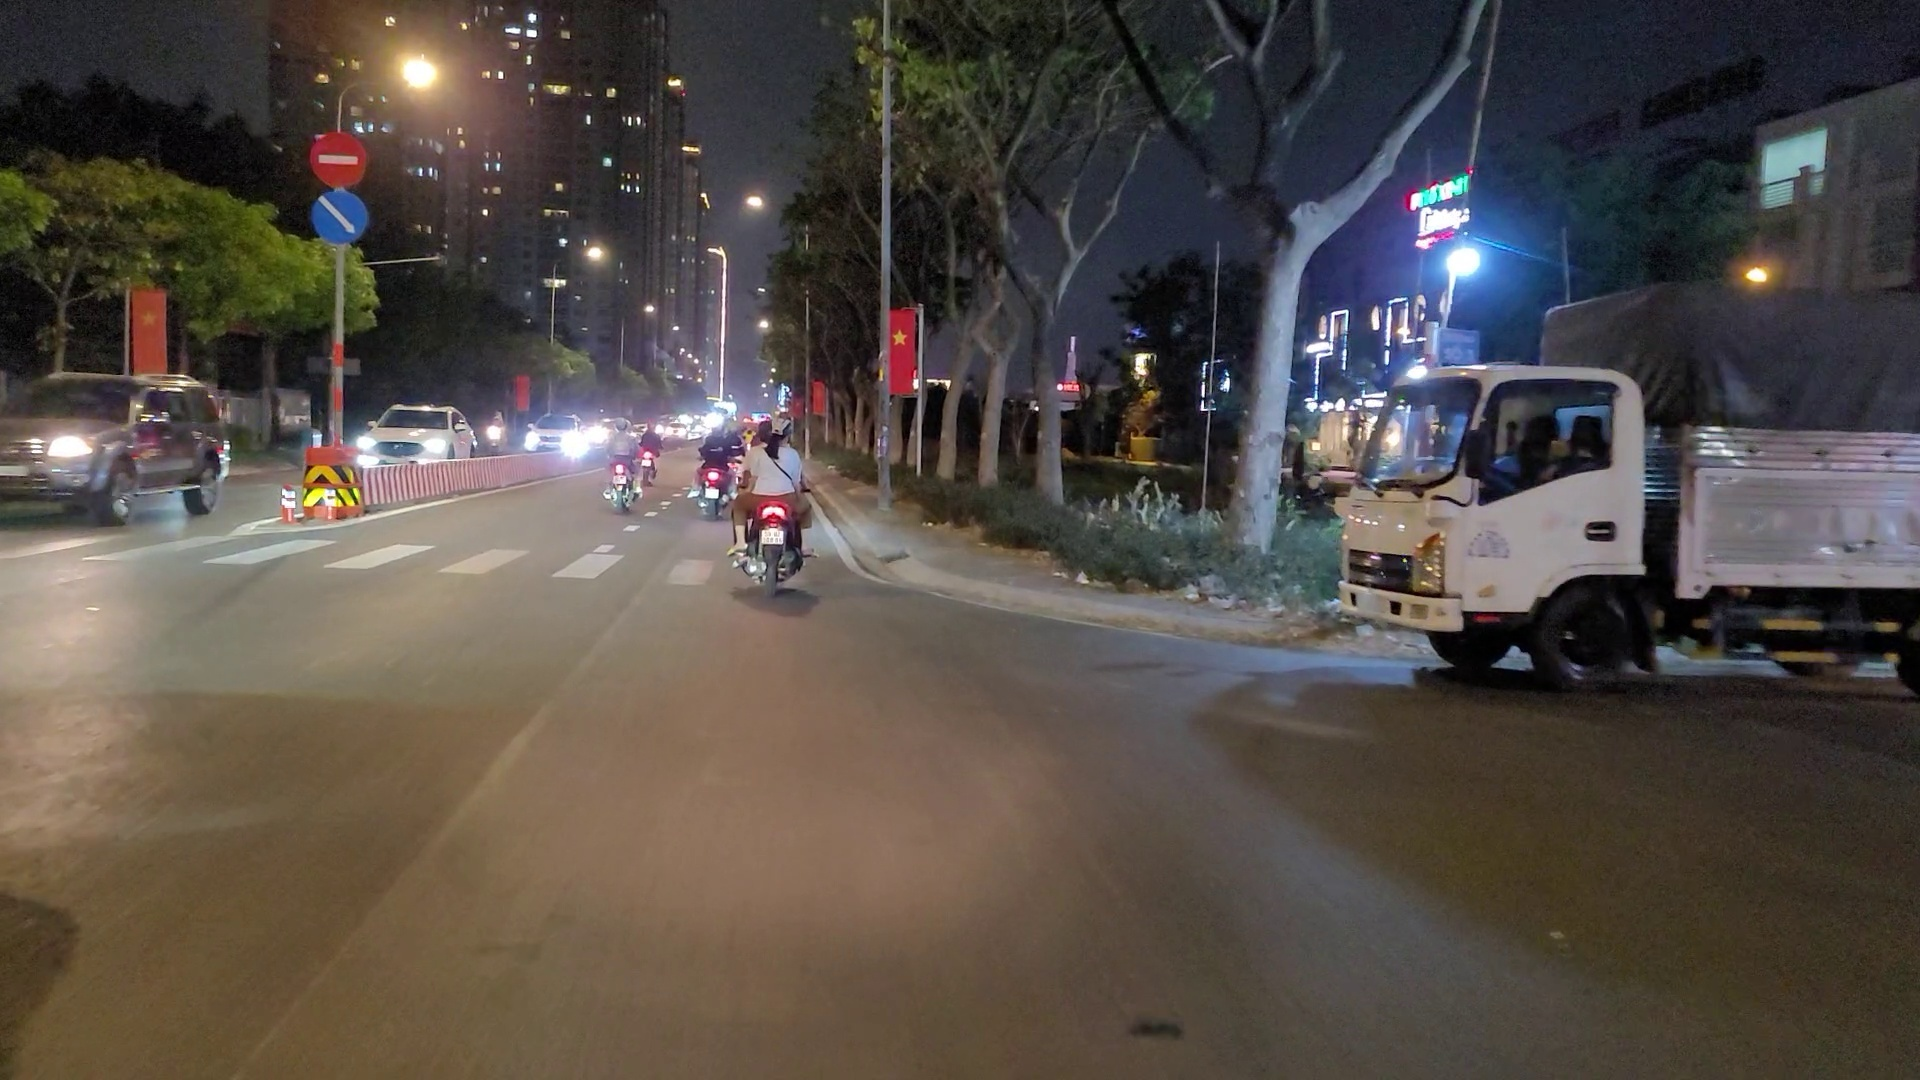Cam di nguoc chieu: (306, 133, 371, 185)
Huong di phai re phai: (311, 189, 367, 244)
